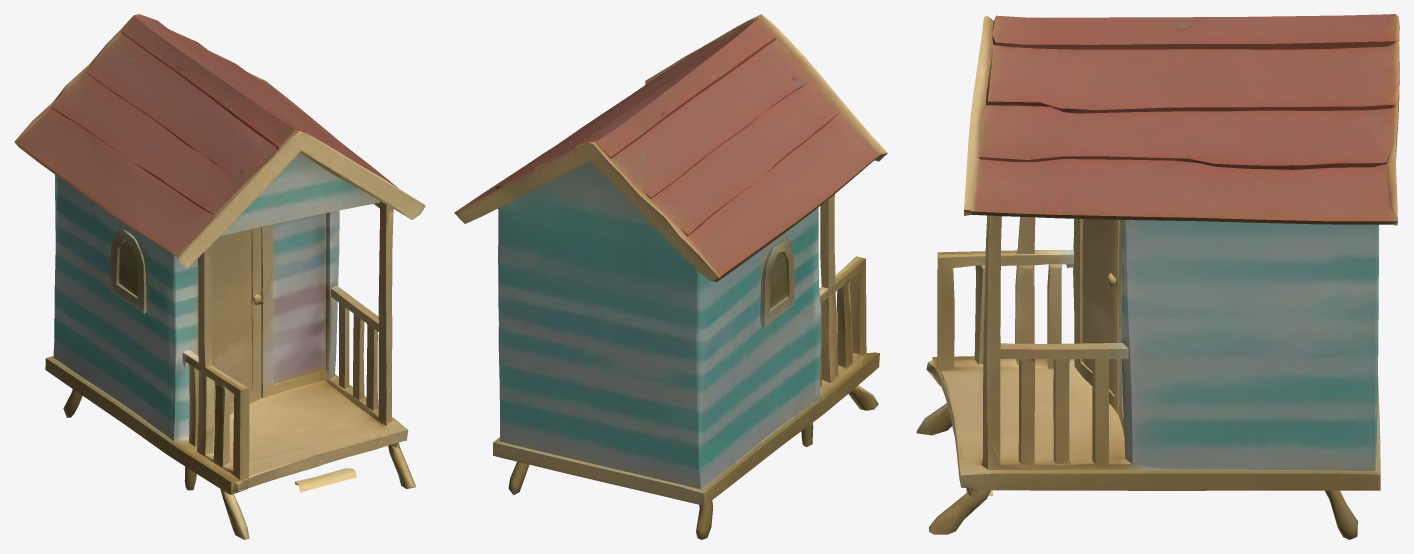
File: beachHut.glb
The picture shows the model from 3 angles, left to right: view 1: azimuth 30°, elevation 25°; view 2: azimuth 150°, elevation 25°; view 3: azimuth 270°, elevation 25°; orthographic projection. The views are drawn at different scales.
Visible parts, largest first — view 1: model; view 2: model; view 3: model.
Part boxes in pixels (x1,y1,x2,y2): model: (14,14,425,539); model: (454,14,887,539); model: (916,14,1399,539).
Bounding box in the file's own units: 1.35 × 1.9 × 1.78.
Materials: 1 (1 with a texture image).
